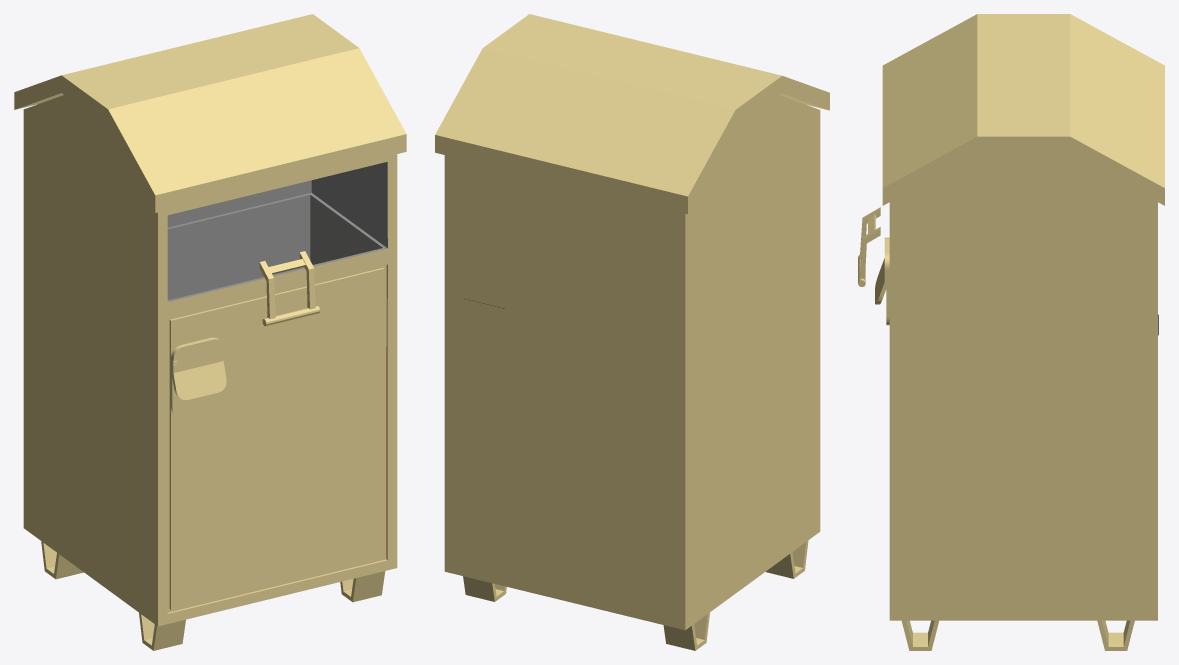
File: TrashCan.fbx
The picture shows the model from 3 angles, left to right: view 1: azimuth 30°, elevation 25°; view 2: azimuth 150°, elevation 25°; view 3: azimuth 270°, elevation 25°; orthographic projection.
Visible parts, largest first — view 1: Group810, Group804, Group811, group1, Group799, Group801, Group800; view 2: Group810, Group804, group1; view 3: Group810, Group804, group1.
Boxes of the visible parts, bbox=[...] form: Group810: bbox=[23, 95, 397, 626]; Group804: bbox=[14, 14, 406, 212]; Group811: bbox=[167, 162, 387, 301]; group1: bbox=[41, 541, 385, 650]; Group799: bbox=[172, 361, 226, 400]; Group801: bbox=[171, 337, 223, 373]; Group800: bbox=[171, 371, 222, 416]; Group810: bbox=[444, 95, 820, 630]; Group804: bbox=[435, 14, 829, 214]; group1: bbox=[463, 298, 808, 650]; Group810: bbox=[889, 154, 1157, 620]; Group804: bbox=[882, 14, 1164, 205]; group1: bbox=[901, 314, 1158, 650].
Bounding box in the file's own units: 5.17 × 10.22 × 5.46.
